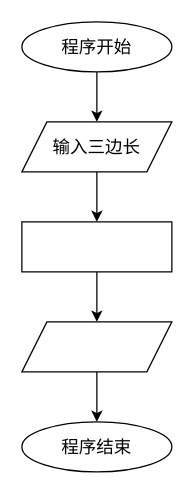
The diagram is 194 pixels wide and 494 high, and some of its shapes have lost their labels. The shapes that lost their labels are listed below. From the top down, each one's centre as x and y in pixels, then its label:
At [96,246]: "计算三角形面积".
At [96,346]: "输出面积".
